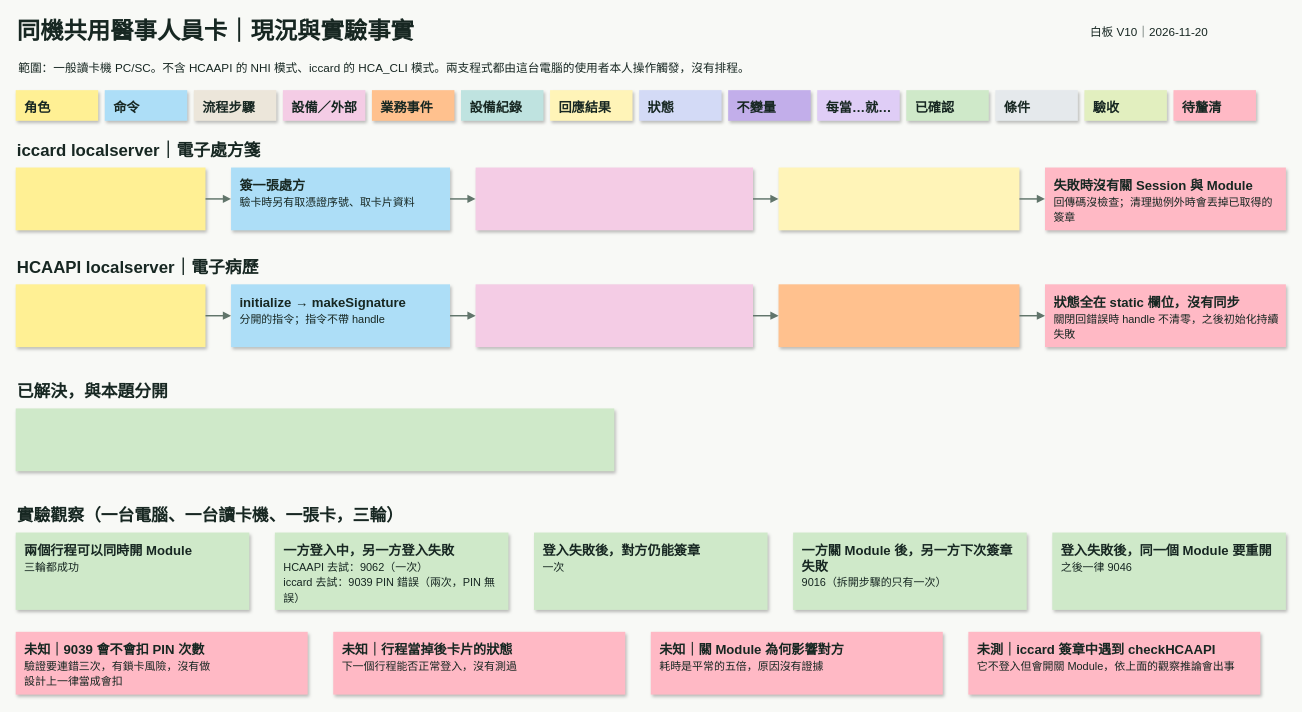
The diagram is 1302 pixels wide and 712 high, and some of its shapes have lost their labels. The centre of each missing label's shape, as x and y in pixels:
"DLL 檔案衝突已排除 iccard 把原生檔解到自己的目錄；實機確認兩支程式可以任意順序啟動 已提交，待上版。這只解決檔案衝突，不解決卡片互斥" belongs at [315,440].
"HCA DLL／讀卡機／卡片 Session 從 initialize 握到 closeModule jar 版本 1,0,10,1208" belongs at [614,316].
"HCA DLL／讀卡機／卡片 每次操作自開自關，約 2.7 秒 jar 版本 1,0,12,410" belongs at [614,199].
"QR Code 已產生並回傳 iccard 自己用簽章值產生；或：某一步失敗，直接拋錯" belongs at [899,199].
"工作清單逐份標為已簽 每份：雜湊、簽章、時戳、上傳、回寫資料庫" belongs at [899,316].
"醫師 在 UI 按「開始簽章」，UI 之後定期呼叫" belongs at [111,316].
"醫師 開立電子處方" belongs at [111,199].
